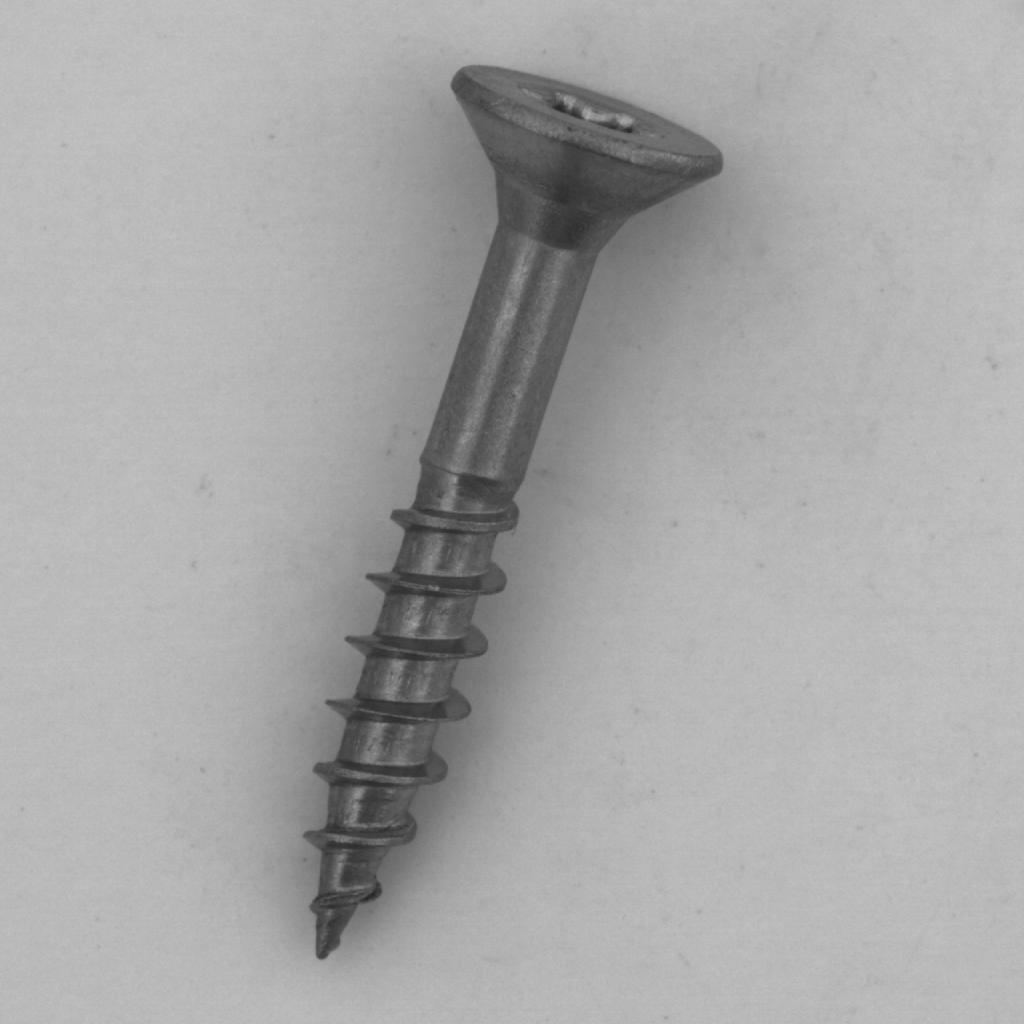good: (285, 54, 743, 971)
